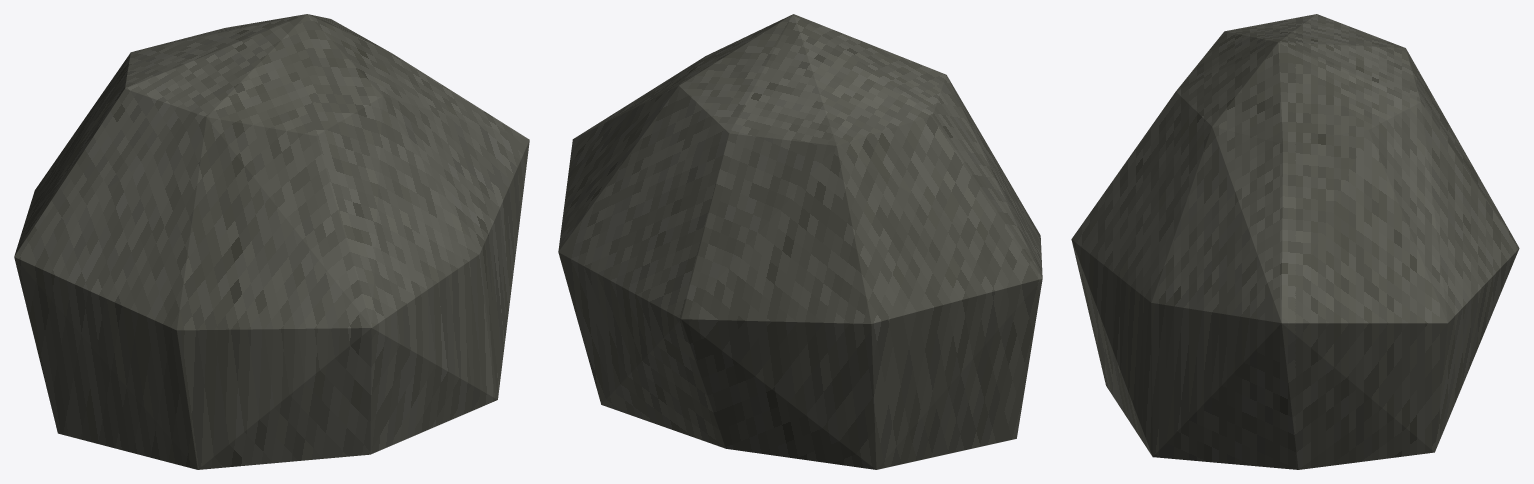
File: env_rocks_03_medium_boulder.glb
3 views of the same model, side by side, from view 1: azimuth 30°, elevation 25°; view 2: azimuth 150°, elevation 25°; view 3: azimuth 270°, elevation 25° (orthographic). The views are drawn at different scales.
Parts seen in each view (by area): view 1: solid; view 2: solid; view 3: solid.
Part boxes in pixels (box(x1,y1,x2,y2)): solid: box(14, 14, 529, 469); solid: box(558, 14, 1042, 469); solid: box(1071, 14, 1519, 469).
Bounding box in the file's own units: 0.9047 × 0.64 × 0.7307.
1 material, 1 textured.
